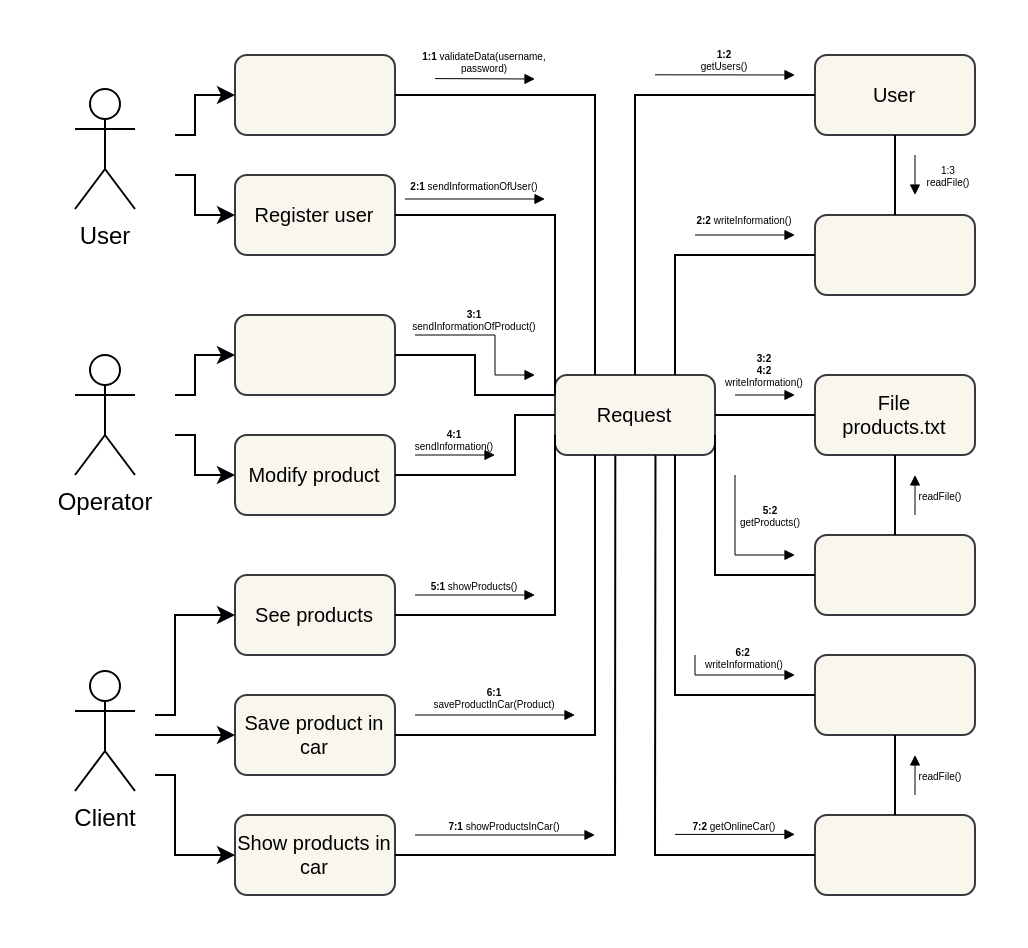
Some shapes in this 1028 by 948 pixel diagram are drawn without their labels. Here are the shapes that lost their labels. From the top down, the box of each, then its label:
(233, 53, 395, 135): Login
(813, 213, 975, 295): File users.txt
(233, 313, 395, 395): Register product
(813, 533, 975, 615): Product
(813, 653, 975, 735): File onlinecars.txt
(813, 813, 975, 895): OnlineCar
